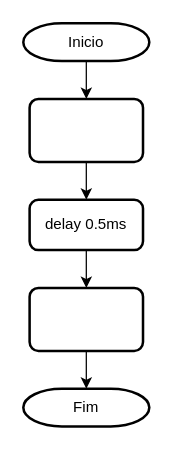
Some shapes in this 171 by 449 pixel diagram are drawn without their labels. Each missing label, with the centre of its shape:
ativa LED e som index_exibir: [86,130]
desativa LED e som index_exibir: [86,319]
